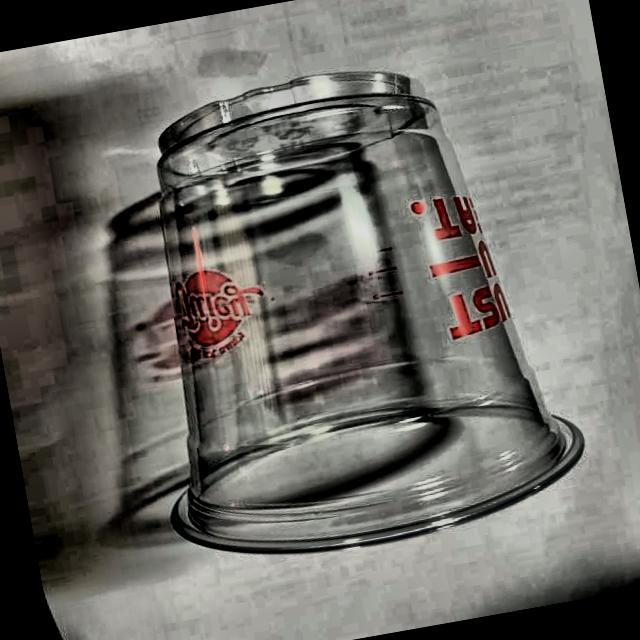plastic cup: (92, 36, 602, 586)
